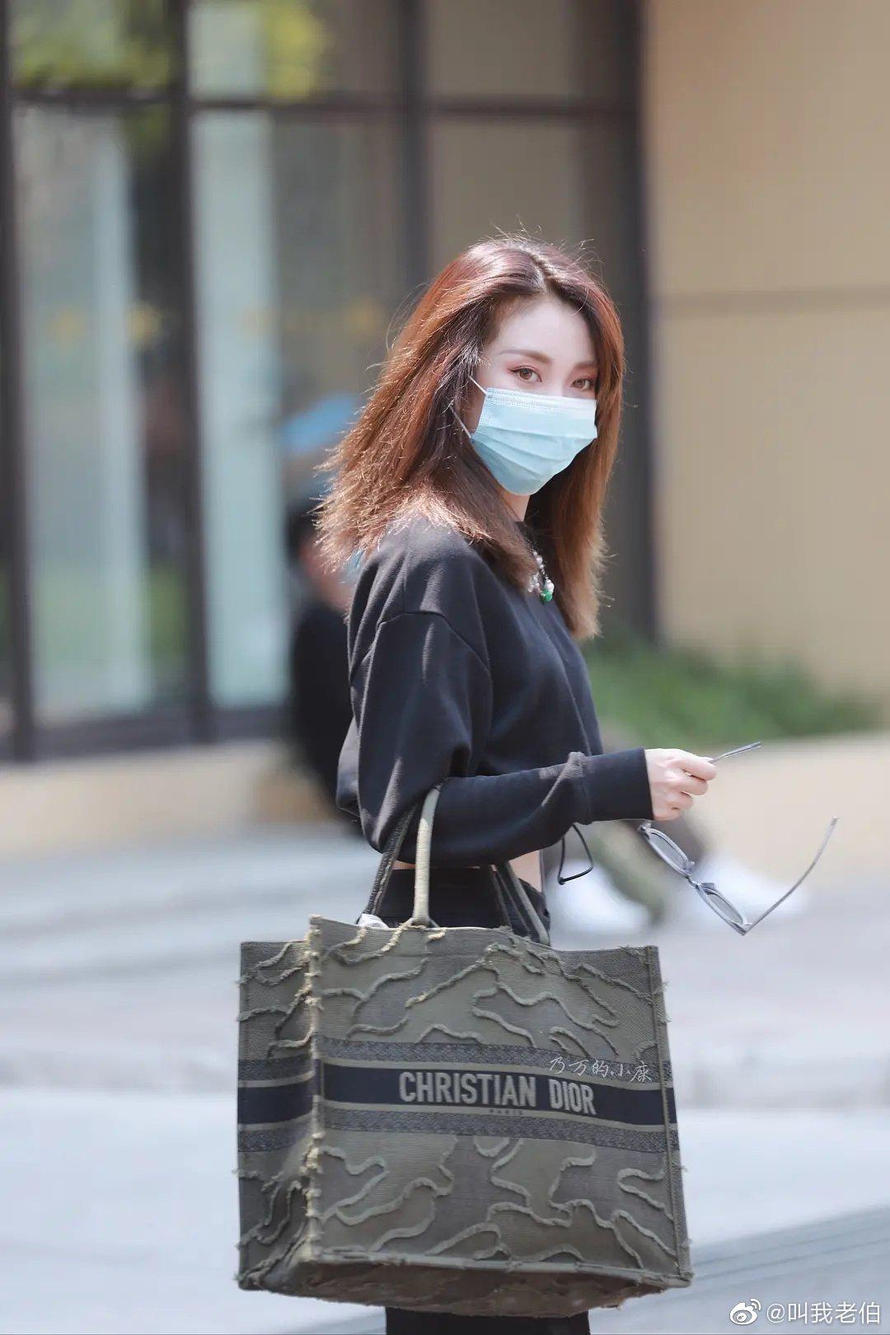OK: (477, 326, 601, 492)
